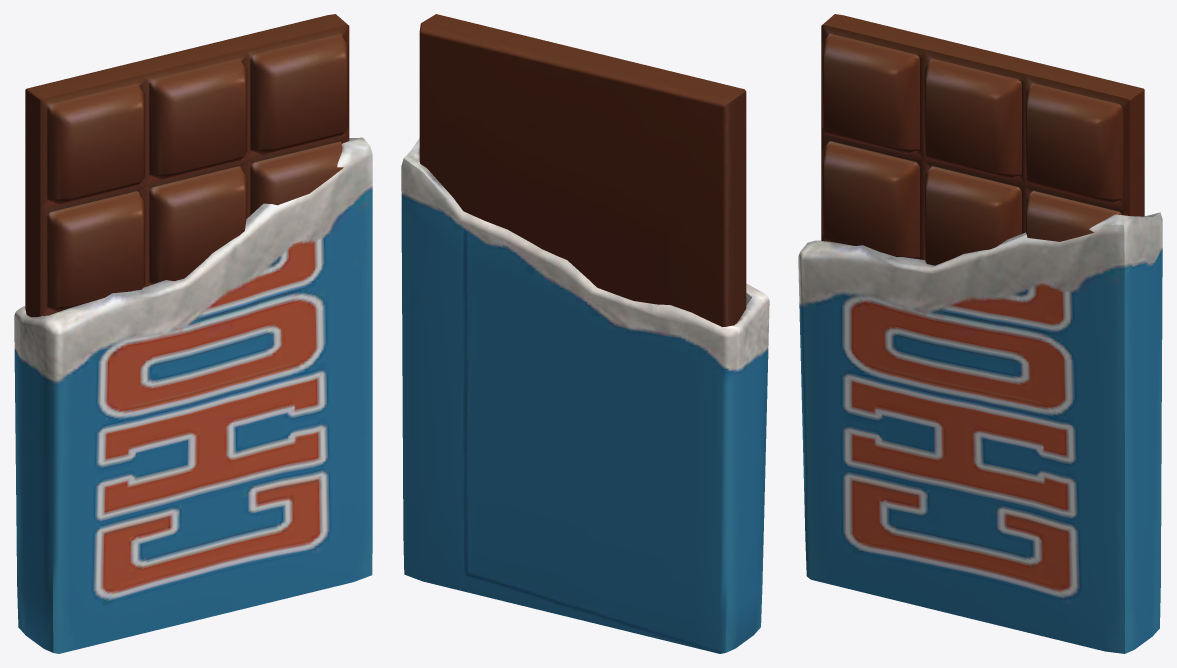
The model's file is 0-chocolatebar_blue.fbx.
The picture shows the model from 3 angles, left to right: view 1: azimuth 30°, elevation 25°; view 2: azimuth 150°, elevation 25°; view 3: azimuth 330°, elevation 25°; orthographic projection.
Visible parts, largest first — view 1: 0-chocolatebar_blue; view 2: 0-chocolatebar_blue; view 3: 0-chocolatebar_blue.
Part boxes in pixels (box(x1,y1,x2,y2)): 0-chocolatebar_blue: box(14, 14, 372, 653); 0-chocolatebar_blue: box(401, 14, 769, 653); 0-chocolatebar_blue: box(798, 14, 1162, 653).
Bounding box in the file's own units: 59.61 × 95.23 × 14.2.
